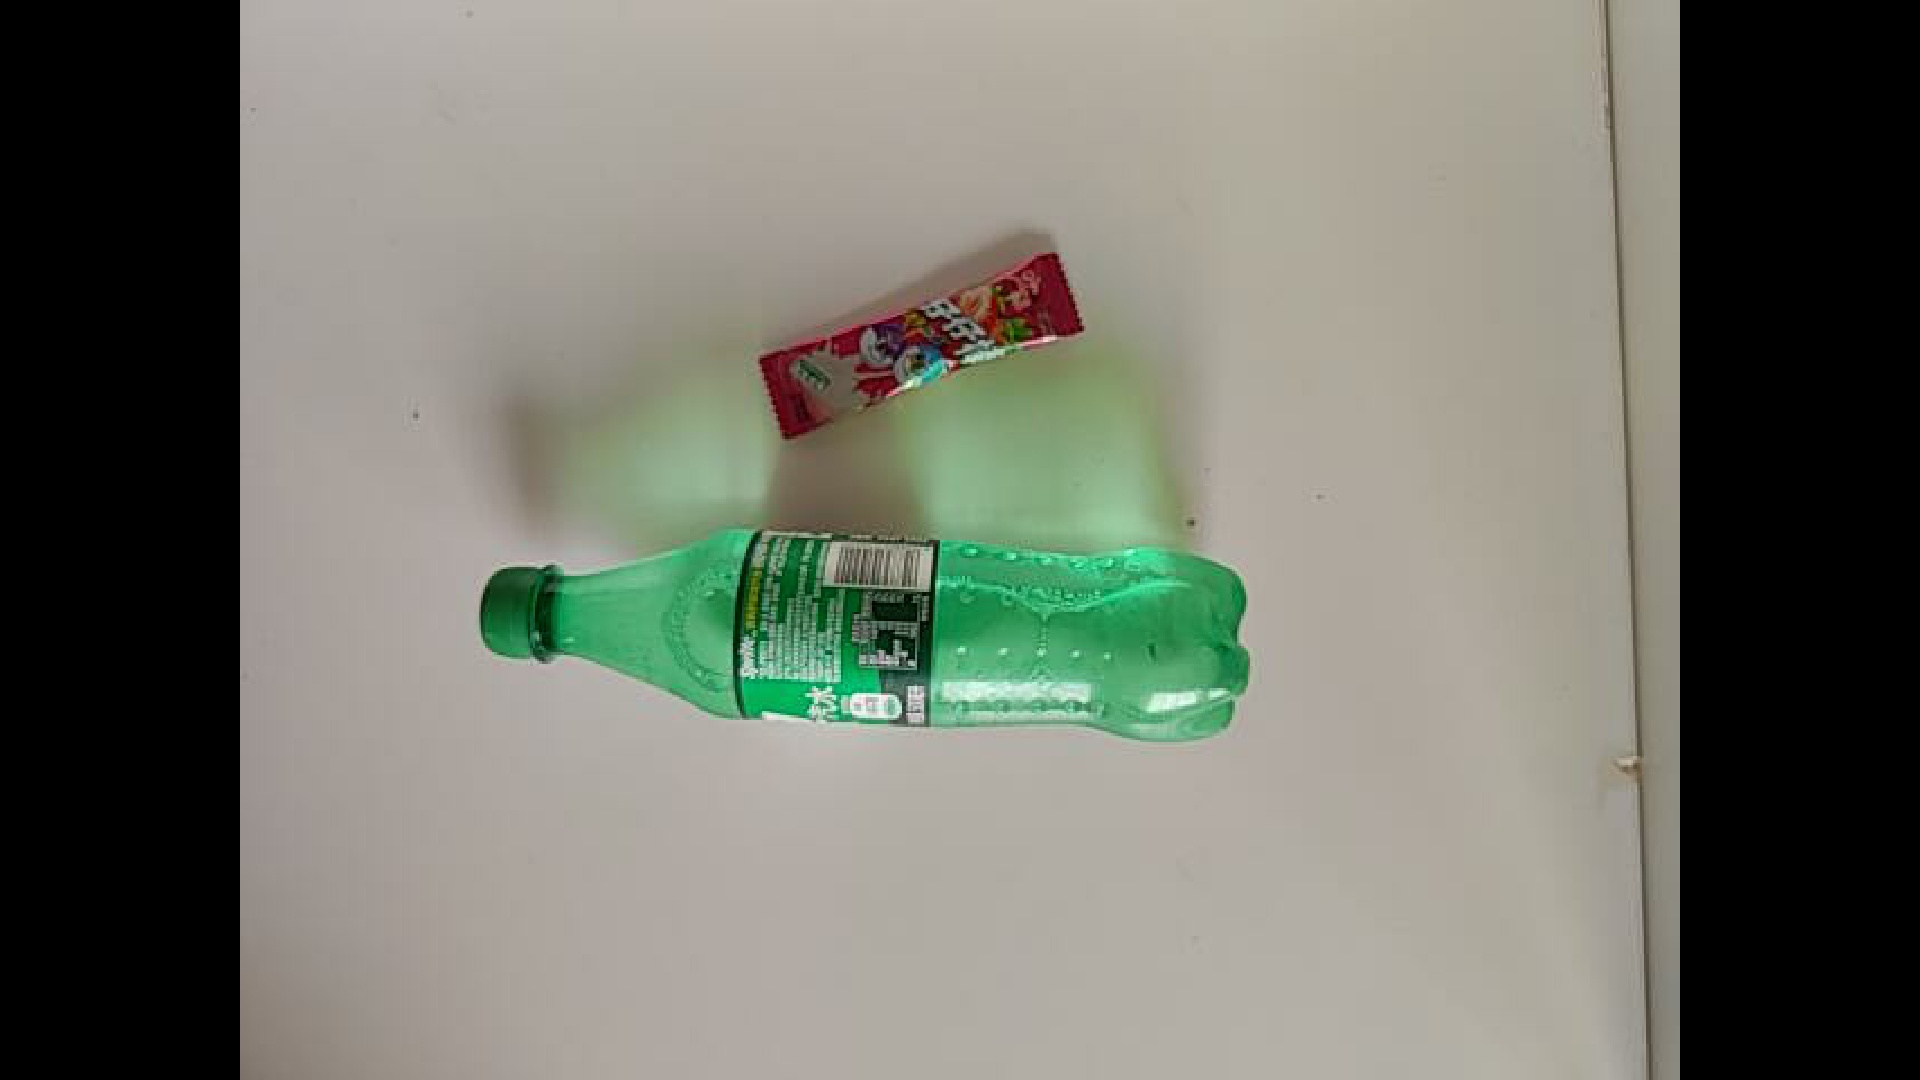sprite: (463, 509, 1258, 733)
sugar: (748, 294, 1116, 447)
